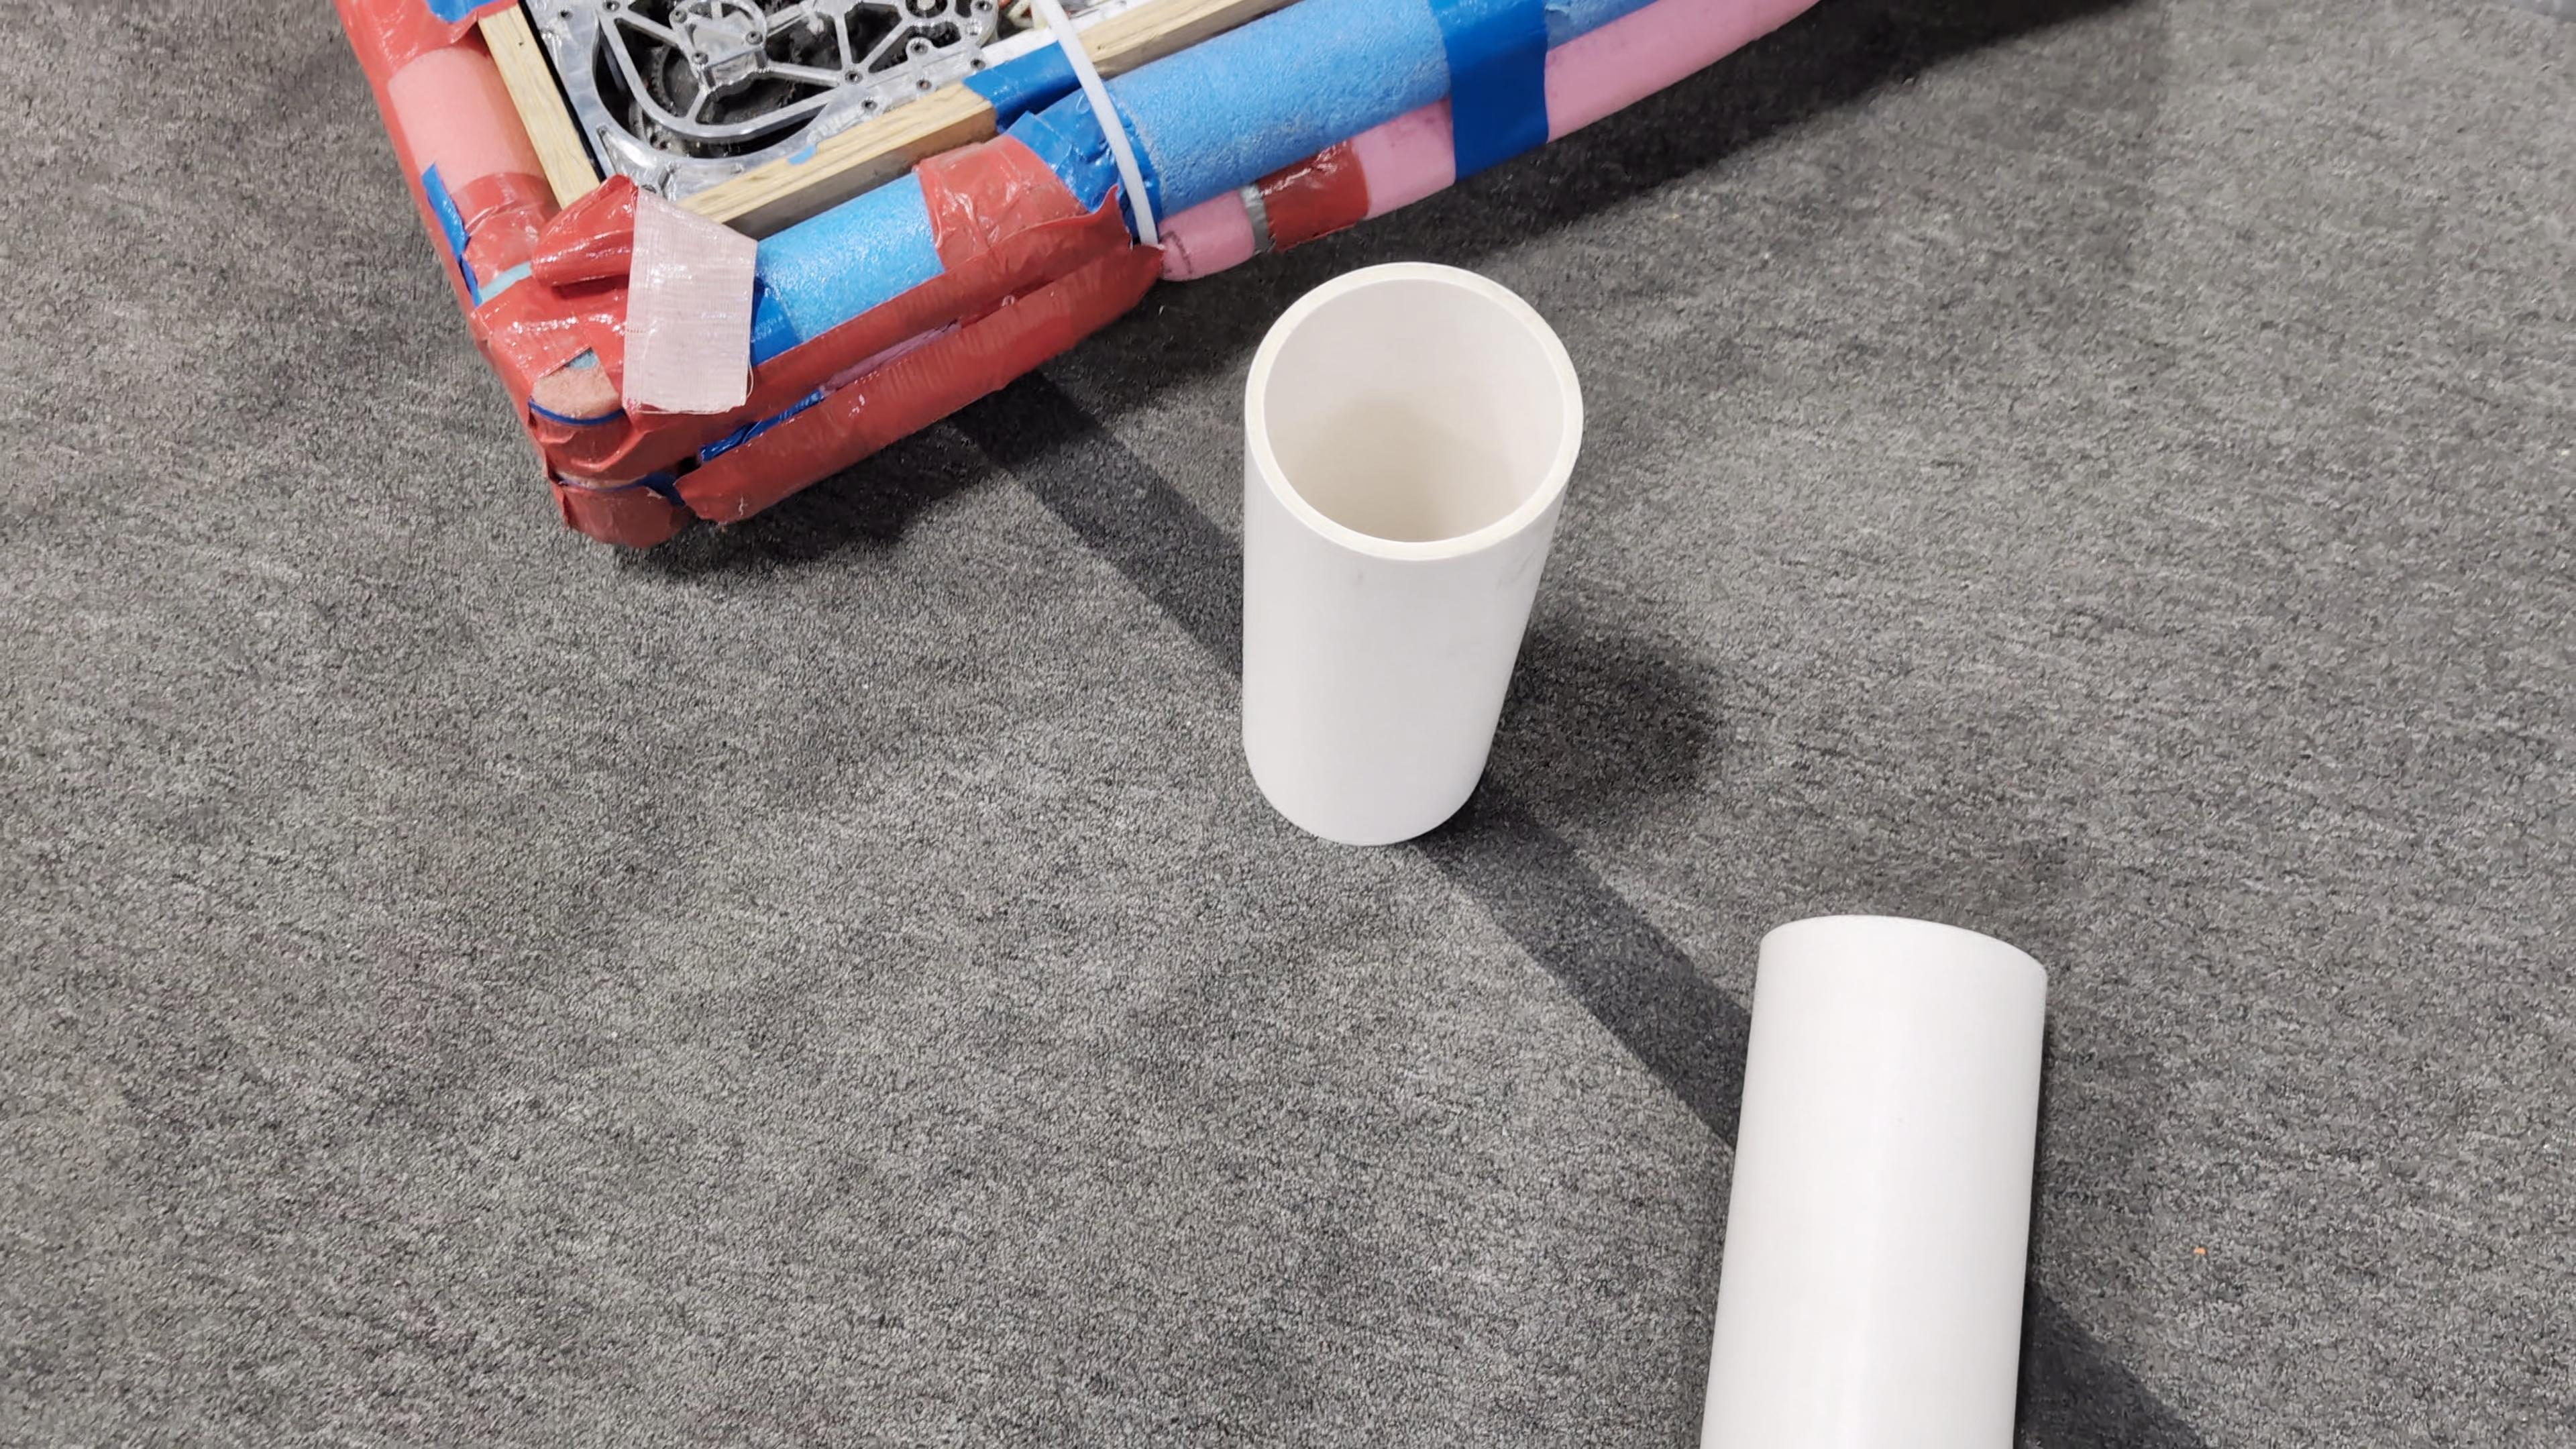coral: (1236, 255, 1586, 846), (1688, 911, 2053, 1444)
